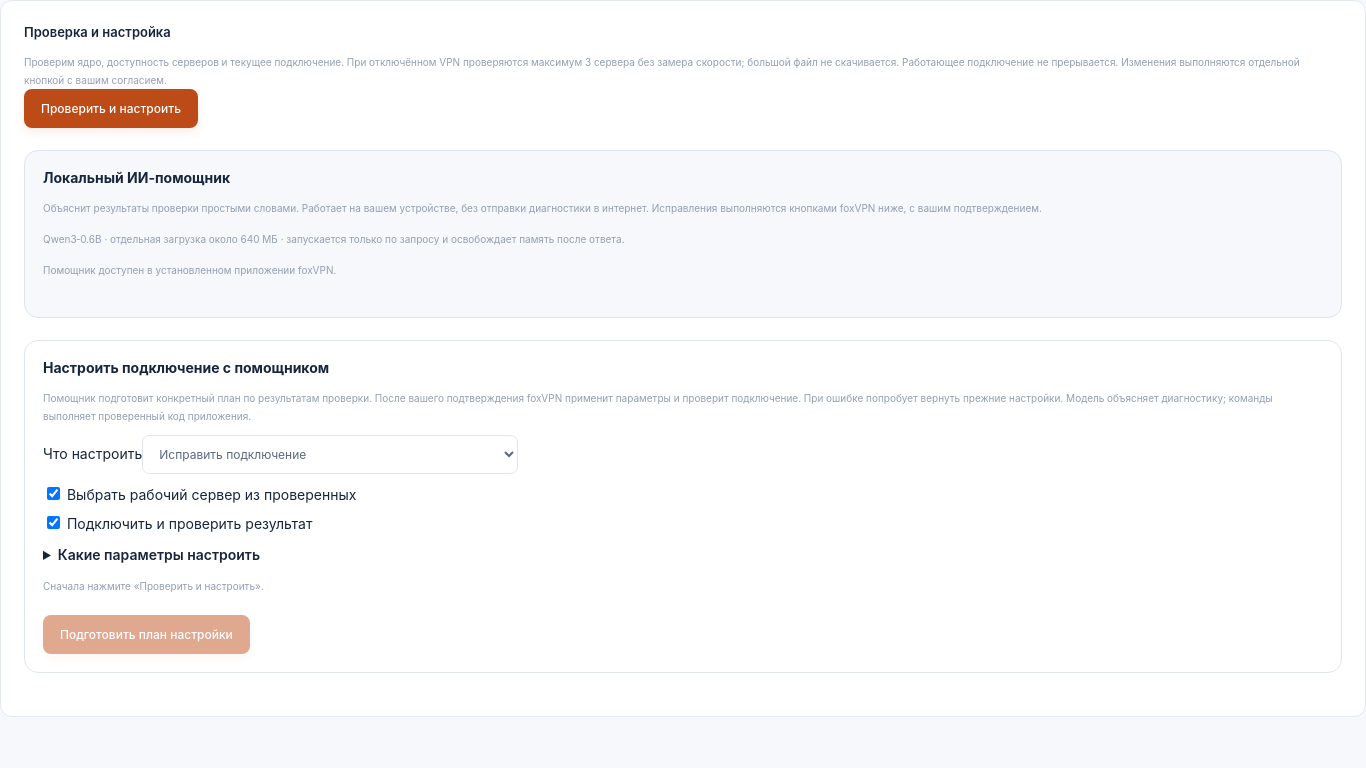
Test: backend failure does not claim successful diagnostics or perform repairs
The image size is (1366, 768).
Click the button "Проверить и настроить": (111, 108) 24,89 -> 198,128
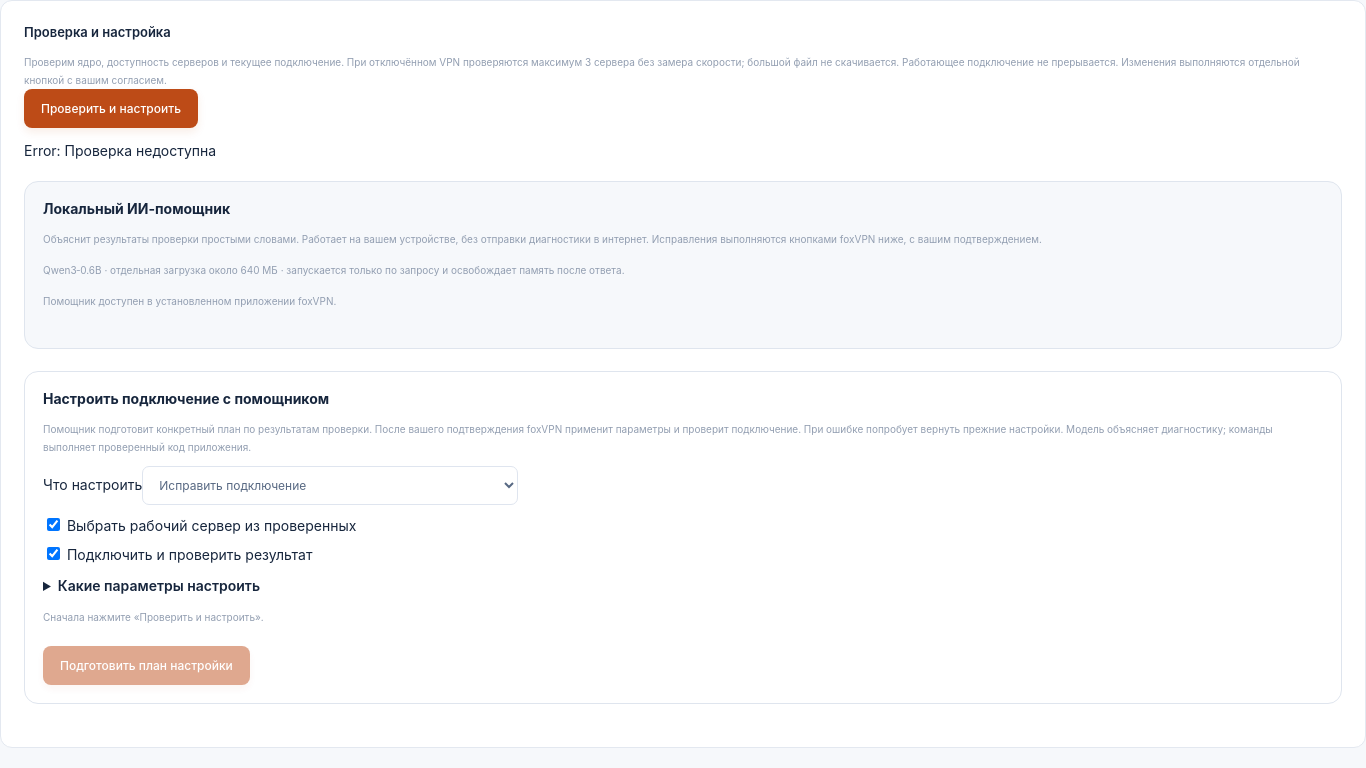
Expected: the text "Error: Проверка недоступна" is shown, 24,142 -> 216,159
